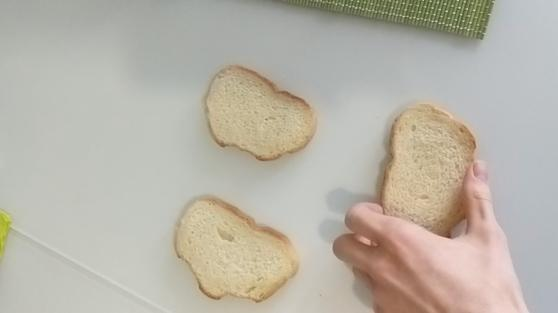white_bread: (172, 197, 302, 308), (378, 106, 478, 241), (203, 63, 317, 162)
